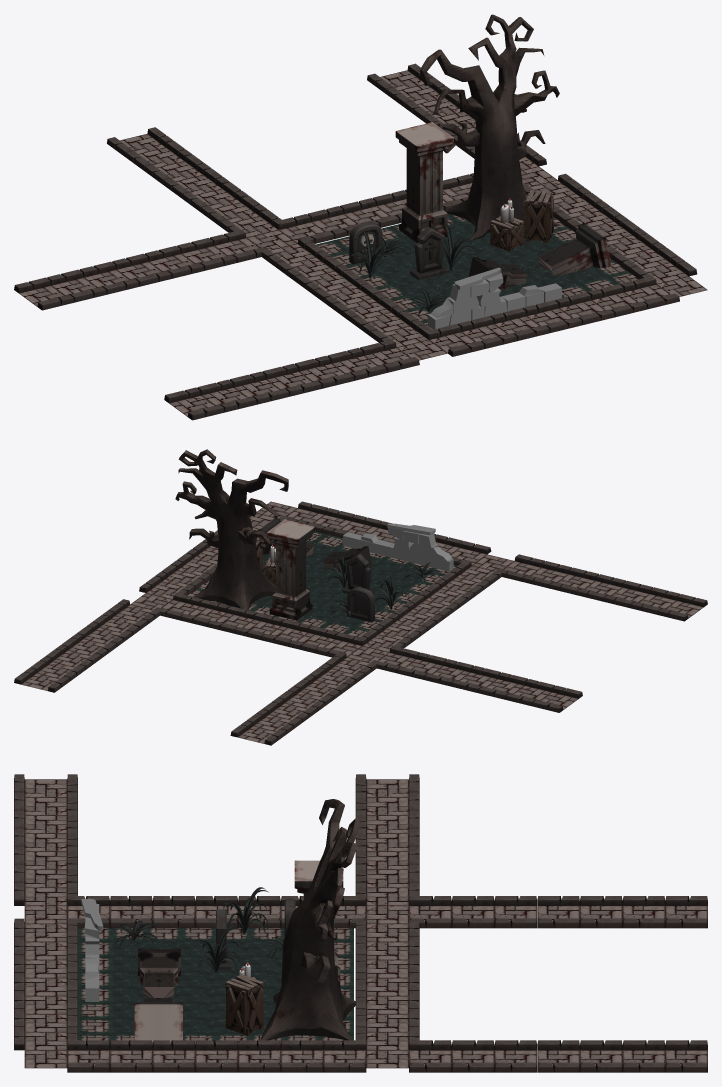
Rendered from changjing.fbx.
3 views of the same model, one above another, from view 1: azimuth 30°, elevation 25°; view 2: azimuth 150°, elevation 25°; view 3: azimuth 270°, elevation 25° (orthographic). The views are drawn at different scales.
Visible parts, largest first — view 1: 对象015, TopoSurface001, 对象035, Box029, 对象039, Plane031, 对象036, 对象034, grave_B, gravestone, 对象030, Box030 (+1 smaller); view 2: 对象015, TopoSurface001, 对象035, Box029, Plane031, 对象039, gravestone, grave_B, Box030; view 3: 对象015, TopoSurface001, 对象035, Plane031, 对象034, 对象036, Box030, 对象039, Box029, AMcg_Plants_C_004, AMcg_Plants_C_01, grave_B (+1 smaller).
Part boxes in pixels (x1,y1,x2,y2): 对象015: (14, 63, 707, 420); TopoSurface001: (419, 14, 560, 241); 对象035: (364, 222, 606, 311); Box029: (395, 122, 453, 242); 对象039: (427, 267, 561, 329); Plane031: (316, 213, 638, 329); 对象036: (538, 222, 611, 276); 对象034: (523, 190, 554, 242); grave_B: (410, 226, 448, 280); gravestone: (349, 222, 382, 264); 对象030: (490, 216, 523, 251); Box030: (468, 257, 527, 290); 对象015: (14, 501, 707, 745); TopoSurface001: (175, 449, 288, 610); 对象035: (254, 542, 428, 626); Box029: (267, 519, 315, 620); Plane031: (188, 531, 456, 637); 对象039: (343, 523, 453, 571); gravestone: (347, 587, 374, 622); grave_B: (342, 554, 374, 594); Box030: (322, 546, 372, 573); 对象015: (14, 774, 707, 1072); TopoSurface001: (260, 799, 360, 1040); 对象035: (112, 940, 282, 1033); Plane031: (78, 928, 353, 1045); 对象034: (225, 974, 263, 1035); 对象036: (134, 998, 182, 1041); Box030: (138, 949, 180, 997); 对象039: (81, 898, 103, 1001); Box029: (294, 860, 343, 987); AMcg_Plants_C_004: (222, 887, 268, 934); AMcg_Plants_C_01: (194, 925, 240, 972); grave_B: (212, 909, 230, 970).
Size of the model in its own units: 21.78 by 7.91 by 21.78.
